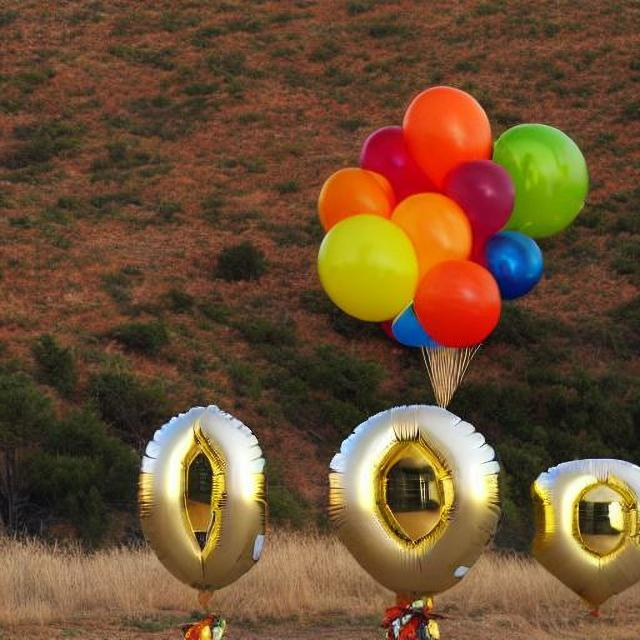balloon: (304, 84, 583, 385)
floating object: (333, 412, 489, 590), (121, 399, 263, 585), (520, 459, 638, 605)
